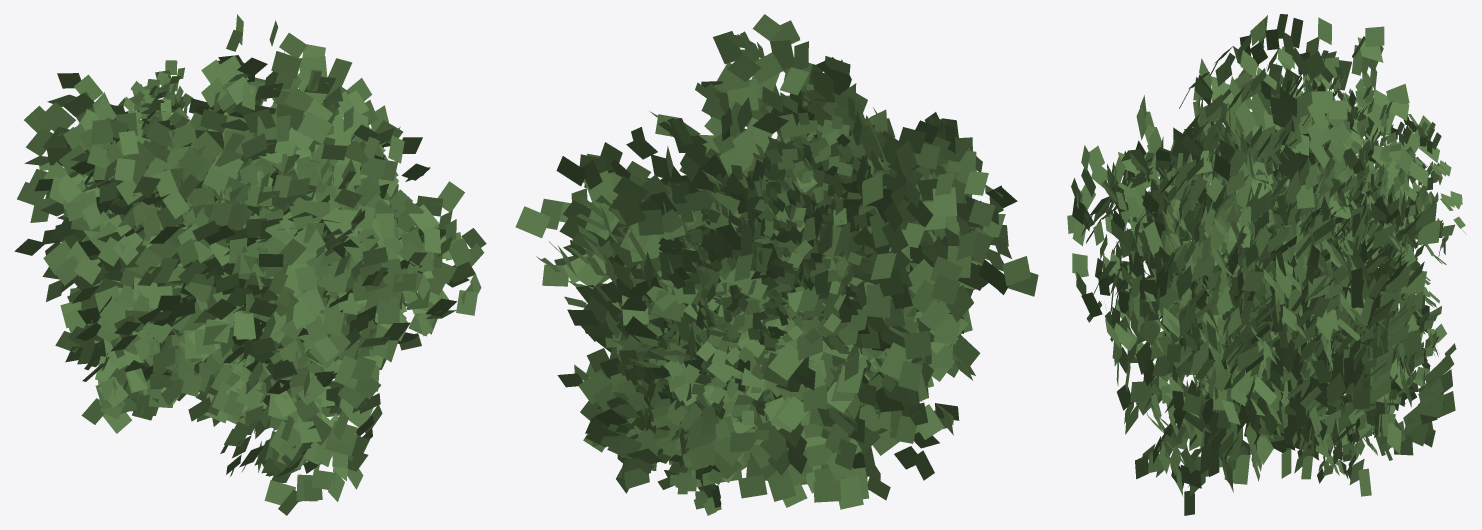
The model's file is bush1.obj.
3 renders of one model, left to right at view 1: azimuth 30°, elevation 25°; view 2: azimuth 150°, elevation 25°; view 3: azimuth 270°, elevation 25°, orthographic. The views are drawn at different scales.
Visible parts, largest first — view 1: Bush.European_Cranberry.Style_1.007_Bush.European_Cranberry.Sty, Bush.European_Cranberry.Style_1_Bush.European_Cranberry.Style_1, Bush.European_Cranberry.Style_1.005_Bush.European_Cranberry.Sty, Bush.European_Cranberry.Style_1.008_Bush.European_Cranberry.Sty, Bush.European_Cranberry.Style_2.004_Bush.European_Cranberry.Sty; view 2: Bush.European_Cranberry.Style_1.007_Bush.European_Cranberry.Sty, Bush.European_Cranberry.Style_1_Bush.European_Cranberry.Style_1, Bush.European_Cranberry.Style_2.004_Bush.European_Cranberry.Sty, Bush.European_Cranberry.Style_1.005_Bush.European_Cranberry.Sty, Bush.European_Cranberry.Style_1.008_Bush.European_Cranberry.Sty, Bush.European_Cranberry.Style_2.002_Bush.European_Cranberry.Sty; view 3: Bush.European_Cranberry.Style_1.008_Bush.European_Cranberry.Sty, Bush.European_Cranberry.Style_1_Bush.European_Cranberry.Style_1, Bush.European_Cranberry.Style_1.007_Bush.European_Cranberry.Sty, Bush.European_Cranberry.Style_1.005_Bush.European_Cranberry.Sty, Bush.European_Cranberry.Style_2.004_Bush.European_Cranberry.Sty, Bush.European_Cranberry.Style_2.002_Bush.European_Cranberry.Sty.
Boxes of the visible parts, x1,y1,x2,y2 form: Bush.European_Cranberry.Style_1.007_Bush.European_Cranberry.Sty: [14, 73, 403, 415]; Bush.European_Cranberry.Style_1_Bush.European_Cranberry.Style_1: [141, 14, 422, 440]; Bush.European_Cranberry.Style_1.005_Bush.European_Cranberry.Sty: [55, 179, 434, 515]; Bush.European_Cranberry.Style_1.008_Bush.European_Cranberry.Sty: [182, 105, 486, 416]; Bush.European_Cranberry.Style_2.004_Bush.European_Cranberry.Sty: [39, 60, 193, 336]; Bush.European_Cranberry.Style_1.007_Bush.European_Cranberry.Sty: [669, 63, 1038, 480]; Bush.European_Cranberry.Style_1_Bush.European_Cranberry.Style_1: [556, 14, 961, 392]; Bush.European_Cranberry.Style_2.004_Bush.European_Cranberry.Sty: [654, 112, 896, 425]; Bush.European_Cranberry.Style_1.005_Bush.European_Cranberry.Sty: [595, 181, 959, 509]; Bush.European_Cranberry.Style_1.008_Bush.European_Cranberry.Sty: [515, 161, 740, 493]; Bush.European_Cranberry.Style_2.002_Bush.European_Cranberry.Sty: [606, 301, 810, 515]; Bush.European_Cranberry.Style_1.008_Bush.European_Cranberry.Sty: [1130, 196, 1455, 496]; Bush.European_Cranberry.Style_1_Bush.European_Cranberry.Style_1: [1076, 42, 1436, 410]; Bush.European_Cranberry.Style_1.007_Bush.European_Cranberry.Sty: [1067, 14, 1439, 334]; Bush.European_Cranberry.Style_1.005_Bush.European_Cranberry.Sty: [1124, 196, 1452, 515]; Bush.European_Cranberry.Style_2.004_Bush.European_Cranberry.Sty: [1221, 51, 1466, 334]; Bush.European_Cranberry.Style_2.002_Bush.European_Cranberry.Sty: [1224, 284, 1456, 483].
Size of the model in its own units: 1.35 by 1.31 by 1.04.
